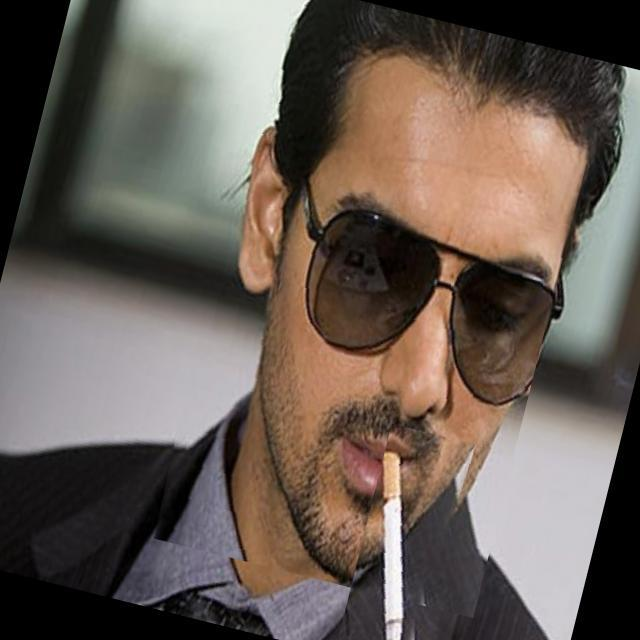cigarette: (335, 423, 475, 640)
